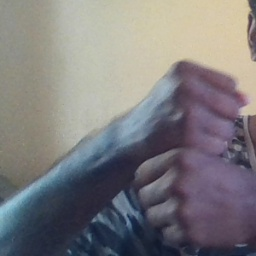G: (133, 59, 247, 251)
